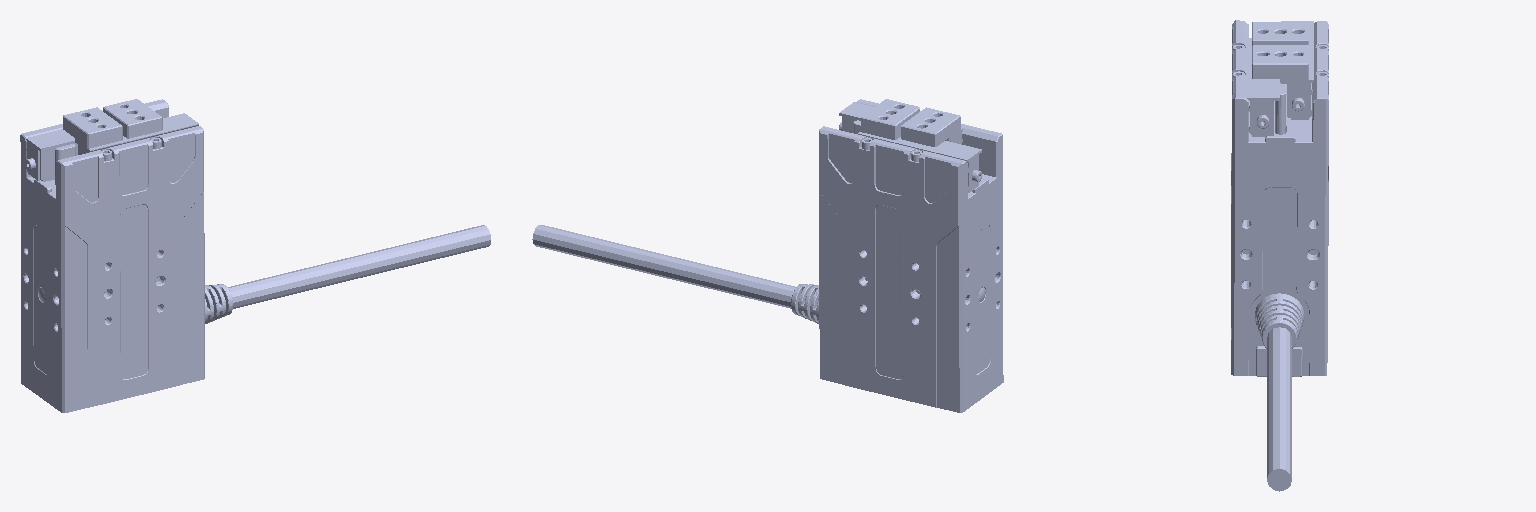
URDF robot description (pge_50_26):
<?xml version="1.0" encoding="utf-8"?>
<!-- This URDF was automatically created by SolidWorks to URDF Exporter! Originally created by [author] ([email redacted]) 
     Commit Version: 1.5.1-0-g916b5db  Build Version: 1.5.7152.31018
     For more information, please see http://wiki.ros.org/sw_urdf_exporter -->
<robot
  name="pge_50_26">
  <link
    name="base_link">
    <inertial>
      <origin
        xyz="-0.224592821269913 0.104149089205071 0.163817882199225"
        rpy="0 0 0" />
      <mass
        value="0.132505005430538" />
      <inertia
        ixx="5.27024488550696E-05"
        ixy="-3.60152863077114E-07"
        ixz="5.63950348068954E-08"
        iyy="4.9698144854463E-05"
        iyz="2.6332316269211E-06"
        izz="8.36485907244945E-05" />
    </inertial>
    <visual>
      <origin
        xyz="0 0 0"
        rpy="0 0 0" />
      <geometry>
        <mesh
          filename="package://pge_50_26_description/meshes/pge_50_26/base_link.dae" />
      </geometry>
      <material
        name="">
        <color
          rgba="0.792156862745098 0.819607843137255 0.933333333333333 1" />
      </material>
    </visual>
    <collision>
      <origin
        xyz="0 0 0"
        rpy="0 0 0" />
      <geometry>
        <mesh
          filename="package://pge_50_26_description/meshes/pge_50_26/base_link.dae" />
      </geometry>
    </collision>
  </link>
  <link
    name="gripper_finger1_link">
    <inertial>
      <origin
        xyz="0.0 0.0 0.0"
        rpy="0 0 0" />
      <mass
        value="0.00502921798949927" />
      <inertia
        ixx="2.08507114807991E-07"
        ixy="-1.21104963361651E-07"
        ixz="-5.28371841804721E-08"
        iyy="8.39328345322441E-07"
        iyz="-3.64291642453535E-08"
        izz="9.30993579975775E-07" />
    </inertial>
    <visual>
      <origin
        xyz="0 0 0"
        rpy="0 0 0" />
      <geometry>
        <mesh
          filename="package://pge_50_26_description/meshes/pge_50_26/gripper_finger1_link.dae" />
      </geometry>
      <material
        name="">
        <color
          rgba="0.792156862745098 0.819607843137255 0.933333333333333 1" />
      </material>
    </visual>
    <collision>
      <origin
        xyz="0 0 0"
        rpy="0 0 0" />
      <geometry>
        <mesh
          filename="package://pge_50_26_description/meshes/pge_50_26/gripper_finger1_link.dae" />
      </geometry>
    </collision>
  </link>
  <joint
    name="gripper_finger1_joint"
    type="prismatic">
    <origin
      xyz="0.075 0.0 0.9425"
      rpy="0 0 0" />
    <parent
      link="base_link" />
    <child
      link="gripper_finger1_link" />
    <axis
      xyz="1 0 0" />
    <limit
      lower="0"
      upper="0.14"
      effort="0"
      velocity="0" />
  </joint>
  <link
    name="gripper_finger2_link">
    <inertial>
      <origin
        xyz="-0.0261486313196047 -0.387023928868582 -2.30754663762136"
        rpy="0 0 0" />
      <mass
        value="0.00502921848716598" />
      <inertia
        ixx="2.08507116995792E-07"
        ixy="1.11565550770782E-07"
        ixz="-7.0790635236094E-08"
        iyy="8.52530812196361E-07"
        iyz="4.86104704355685E-08"
        izz="9.17791415622573E-07" />
    </inertial>
    <visual>
      <origin
        xyz="0 0 0"
        rpy="0 0 0" />
      <geometry>
        <mesh
          filename="package://pge_50_26_description/meshes/pge_50_26/gripper_finger2_link.dae" />
      </geometry>
      <material
        name="">
        <color
          rgba="0.792156862745098 0.819607843137255 0.933333333333333 1" />
      </material>
    </visual>
    <collision>
      <origin
        xyz="0 0 0"
        rpy="0 0 0" />
      <geometry>
        <mesh
          filename="package://pge_50_26_description/meshes/pge_50_26/gripper_finger2_link.dae" />
      </geometry>
    </collision>
  </link>
  <joint
    name="gripper_finger2_joint"
    type="prismatic">
    <origin
      xyz="-0.075 0.0 0.9425"
      rpy="0 0 0" />
    <parent
      link="base_link" />
    <child
      link="gripper_finger2_link" />
    <axis
      xyz="1 0 0" />
    <limit
      lower="0"
      upper="-0.14"
      effort="0"
      velocity="0" />
  </joint>
</robot>

--- Facts derived from the render (not from the file) ---
3 views of the same robot in one strip: view 1: azimuth 30°, elevation 25°; view 2: azimuth 150°, elevation 25°; view 3: azimuth 270°, elevation 25° (orthographic).
Robot: pge_50_26 — 3 links, 2 joints (2 prismatic); root link base_link; default pose: every joint at zero.
Visible links, largest first — view 1: base_link, gripper_finger1_link, gripper_finger2_link; view 2: base_link, gripper_finger1_link, gripper_finger2_link; view 3: base_link, gripper_finger1_link, gripper_finger2_link.
Boxes of the visible links, bbox=[...] form: base_link: bbox=[20, 99, 490, 412]; gripper_finger1_link: bbox=[25, 99, 162, 181]; gripper_finger2_link: bbox=[63, 107, 198, 154]; base_link: bbox=[532, 99, 1003, 412]; gripper_finger1_link: bbox=[858, 99, 981, 192]; gripper_finger2_link: bbox=[839, 102, 962, 146]; base_link: bbox=[1231, 20, 1328, 491]; gripper_finger1_link: bbox=[1252, 21, 1313, 119]; gripper_finger2_link: bbox=[1247, 22, 1308, 136].
Bounding box of the posed robot: 1.73 × 0.2944 × 0.9732 m (x, y, z).
3 mesh visuals loaded from 3 distinct referenced files (3 Collada DAE).